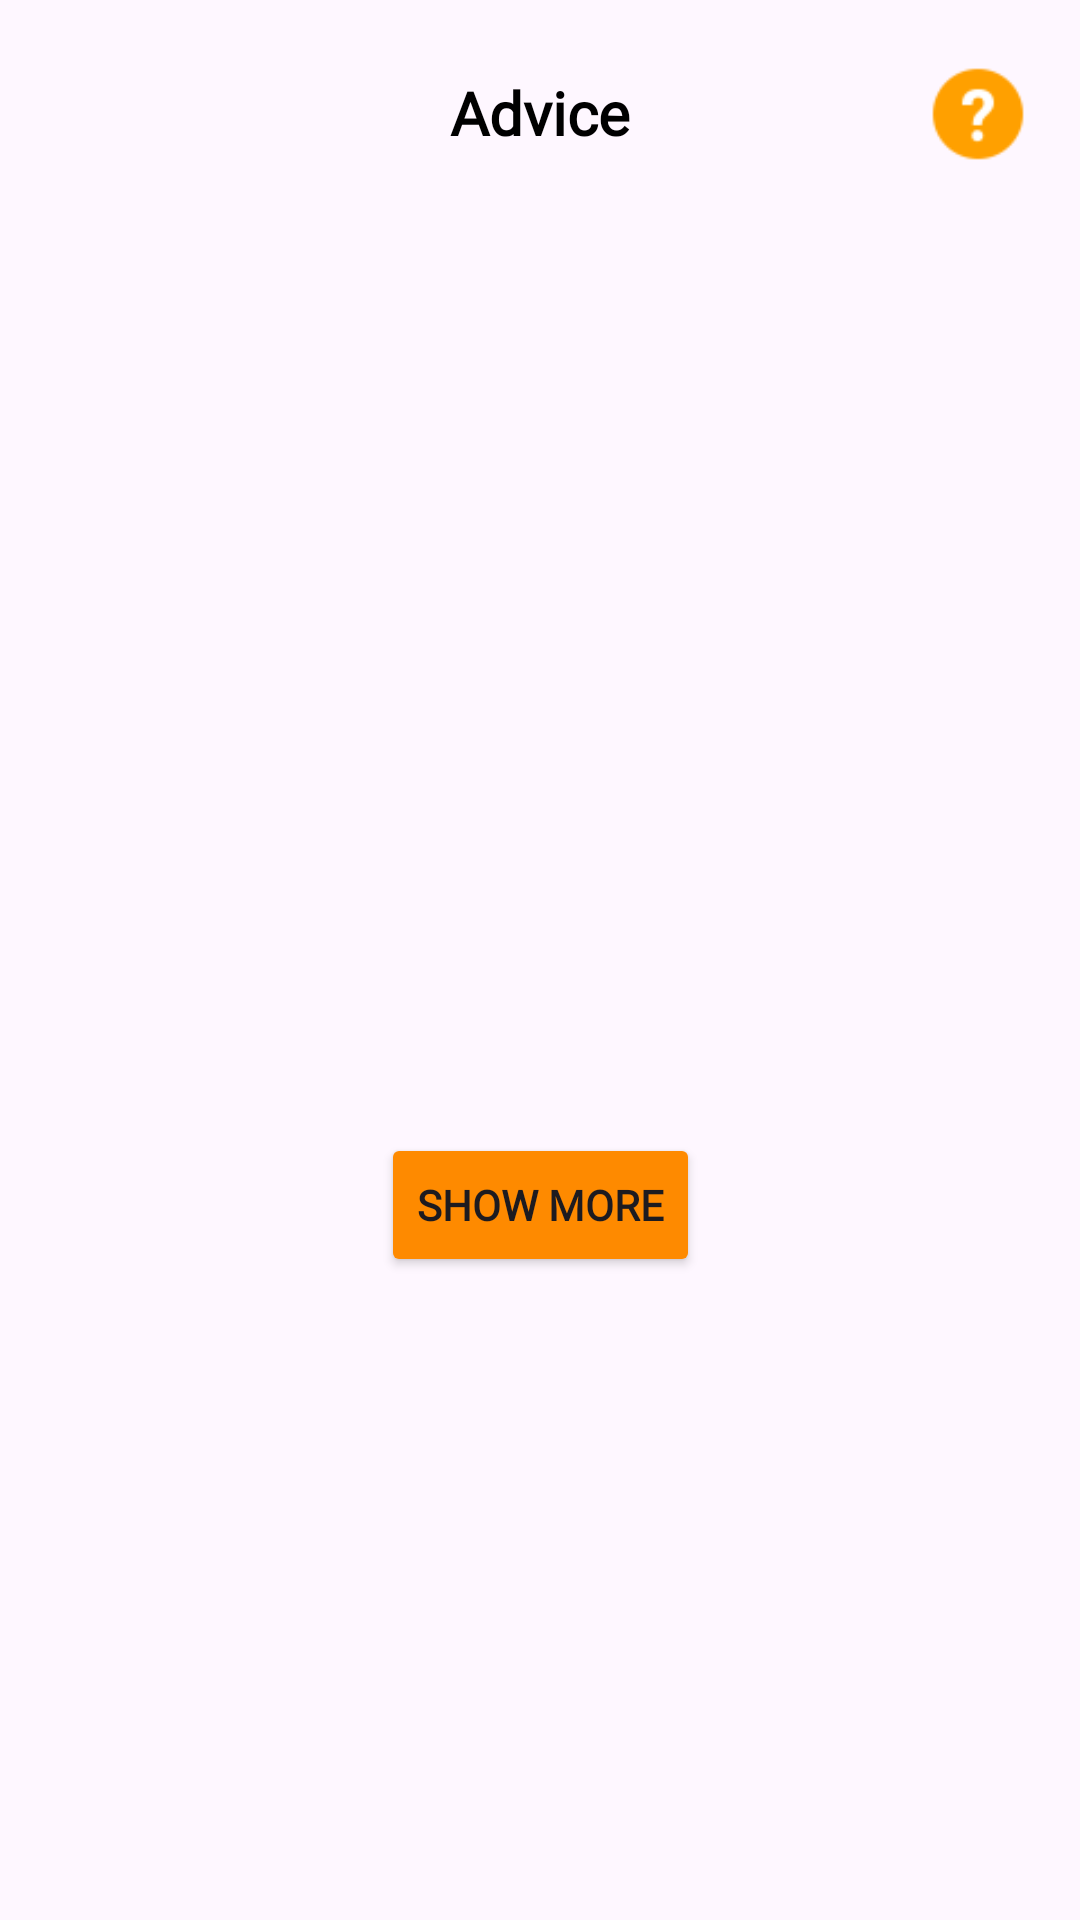

Point at icon controls on the screen. Image size 1080*1920, points as point (x, y).
help: point (978, 114)
